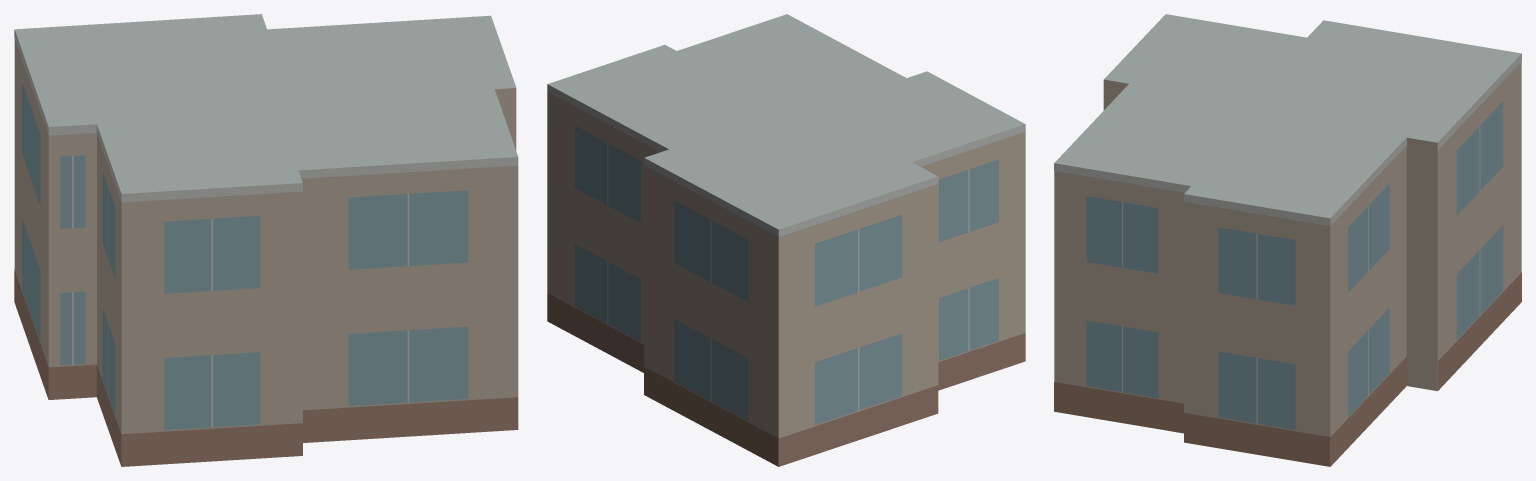
File: survey-upis-32668386.glb
3 renders of one model, left to right at view 1: azimuth 30°, elevation 25°; view 2: azimuth 150°, elevation 25°; view 3: azimuth 270°, elevation 25°, orthographic. The views are drawn at different scales.
Parts seen in each view (by area): view 1: survey-upis-32668386.tmp; view 2: survey-upis-32668386.tmp; view 3: survey-upis-32668386.tmp.
Part boxes in pixels (bbox=[...]): survey-upis-32668386.tmp: bbox=[14, 14, 518, 466]; survey-upis-32668386.tmp: bbox=[547, 14, 1025, 466]; survey-upis-32668386.tmp: bbox=[1054, 14, 1521, 466].
Bounding box in the file's own units: 13.77 × 7.8 × 13.31.
